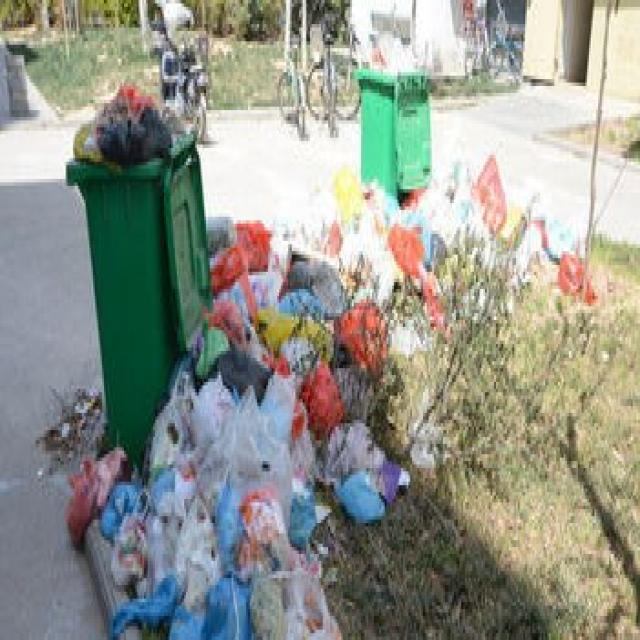garbage: (33, 152, 594, 636)
garbage_bin: (350, 62, 430, 203)
overflow: (64, 76, 210, 475)
